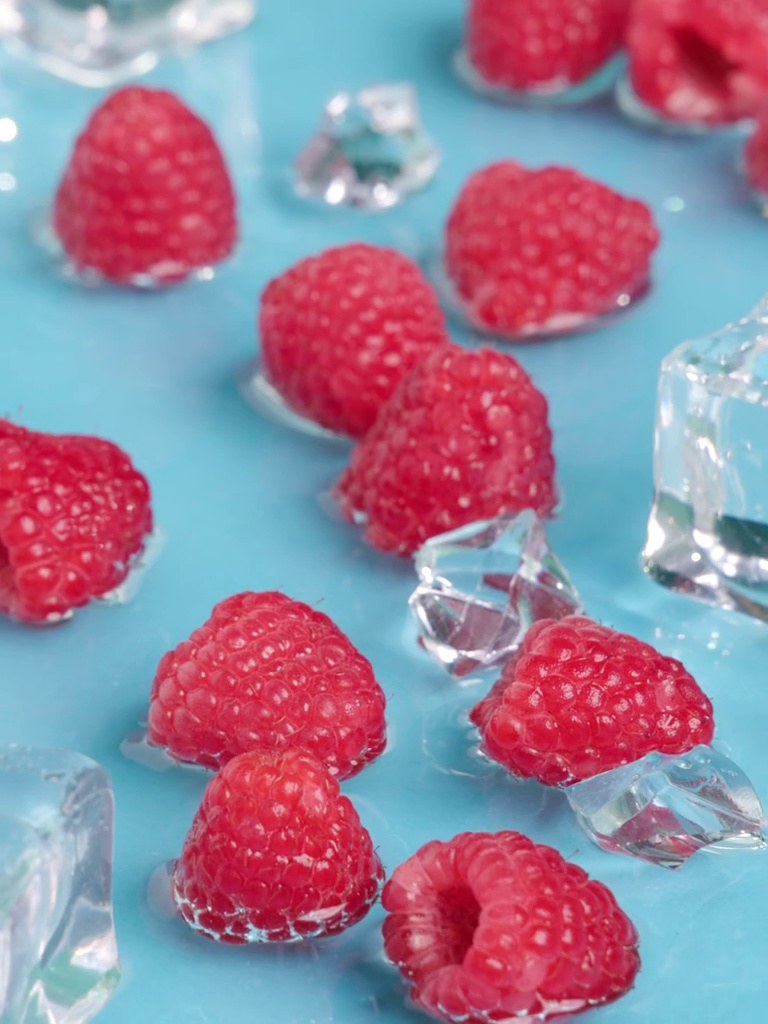Strawberry: (380, 836, 631, 1023), (347, 346, 563, 560), (141, 584, 380, 774), (174, 746, 385, 950), (441, 150, 660, 338), (471, 612, 714, 778), (258, 241, 440, 443), (60, 85, 236, 292), (1, 411, 148, 619)
